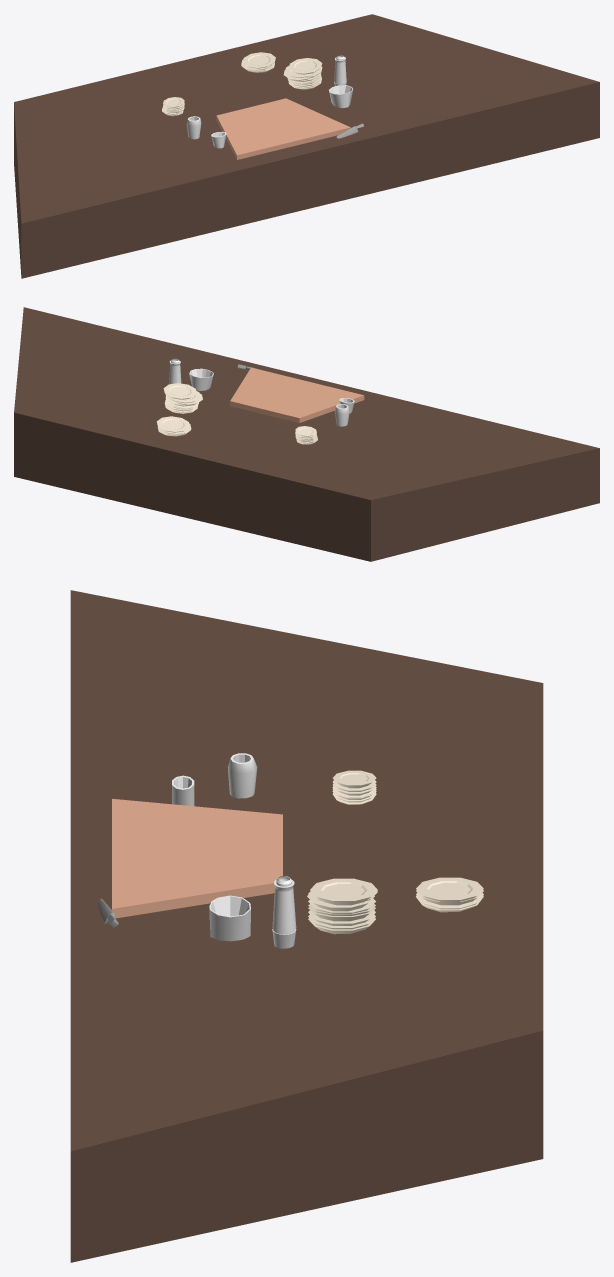
The model's file is GROUND STEP 1.fbx.
3 views of the same model, one above another, from view 1: azimuth 30°, elevation 25°; view 2: azimuth 150°, elevation 25°; view 3: azimuth 270°, elevation 25° (orthographic). The views are drawn at different scales.
Parts seen in each view (by area): view 1: bkacground1:TABLE, bkacground1:PLANCHE_A_DECOUPER, bkacground1:polySurface129, bkacground1:polySurface161, bkacground1:polySurface173; view 2: bkacground1:TABLE, bkacground1:PLANCHE_A_DECOUPER, bkacground1:polySurface129, bkacground1:polySurface161, bkacground1:polySurface173; view 3: bkacground1:TABLE, bkacground1:PLANCHE_A_DECOUPER, bkacground1:polySurface129, bkacground1:polySurface159, bkacground1:polySurface161, bkacground1:polySurface173, bkacground1:polySurface157.
Boxes of the visible parts, bbox=[...] form: bkacground1:TABLE: bbox=[14, 14, 599, 278]; bkacground1:PLANCHE_A_DECOUPER: bbox=[216, 98, 350, 159]; bkacground1:polySurface129: bbox=[329, 85, 352, 108]; bkacground1:polySurface161: bbox=[289, 58, 322, 74]; bkacground1:polySurface173: bbox=[242, 52, 275, 68]; bkacground1:TABLE: bbox=[14, 307, 599, 561]; bkacground1:PLANCHE_A_DECOUPER: bbox=[230, 367, 364, 422]; bkacground1:polySurface129: bbox=[189, 368, 213, 390]; bkacground1:polySurface161: bbox=[163, 383, 196, 399]; bkacground1:polySurface173: bbox=[156, 416, 189, 432]; bkacground1:TABLE: bbox=[70, 590, 543, 1262]; bkacground1:PLANCHE_A_DECOUPER: bbox=[112, 798, 282, 918]; bkacground1:polySurface129: bbox=[209, 895, 250, 941]; bkacground1:polySurface159: bbox=[272, 876, 296, 948]; bkacground1:polySurface161: bbox=[310, 878, 377, 905]; bkacground1:polySurface173: bbox=[416, 877, 483, 901]; bkacground1:polySurface157: bbox=[228, 753, 257, 798].
Bounding box in the file's own units: 444 × 68.45 × 158.
